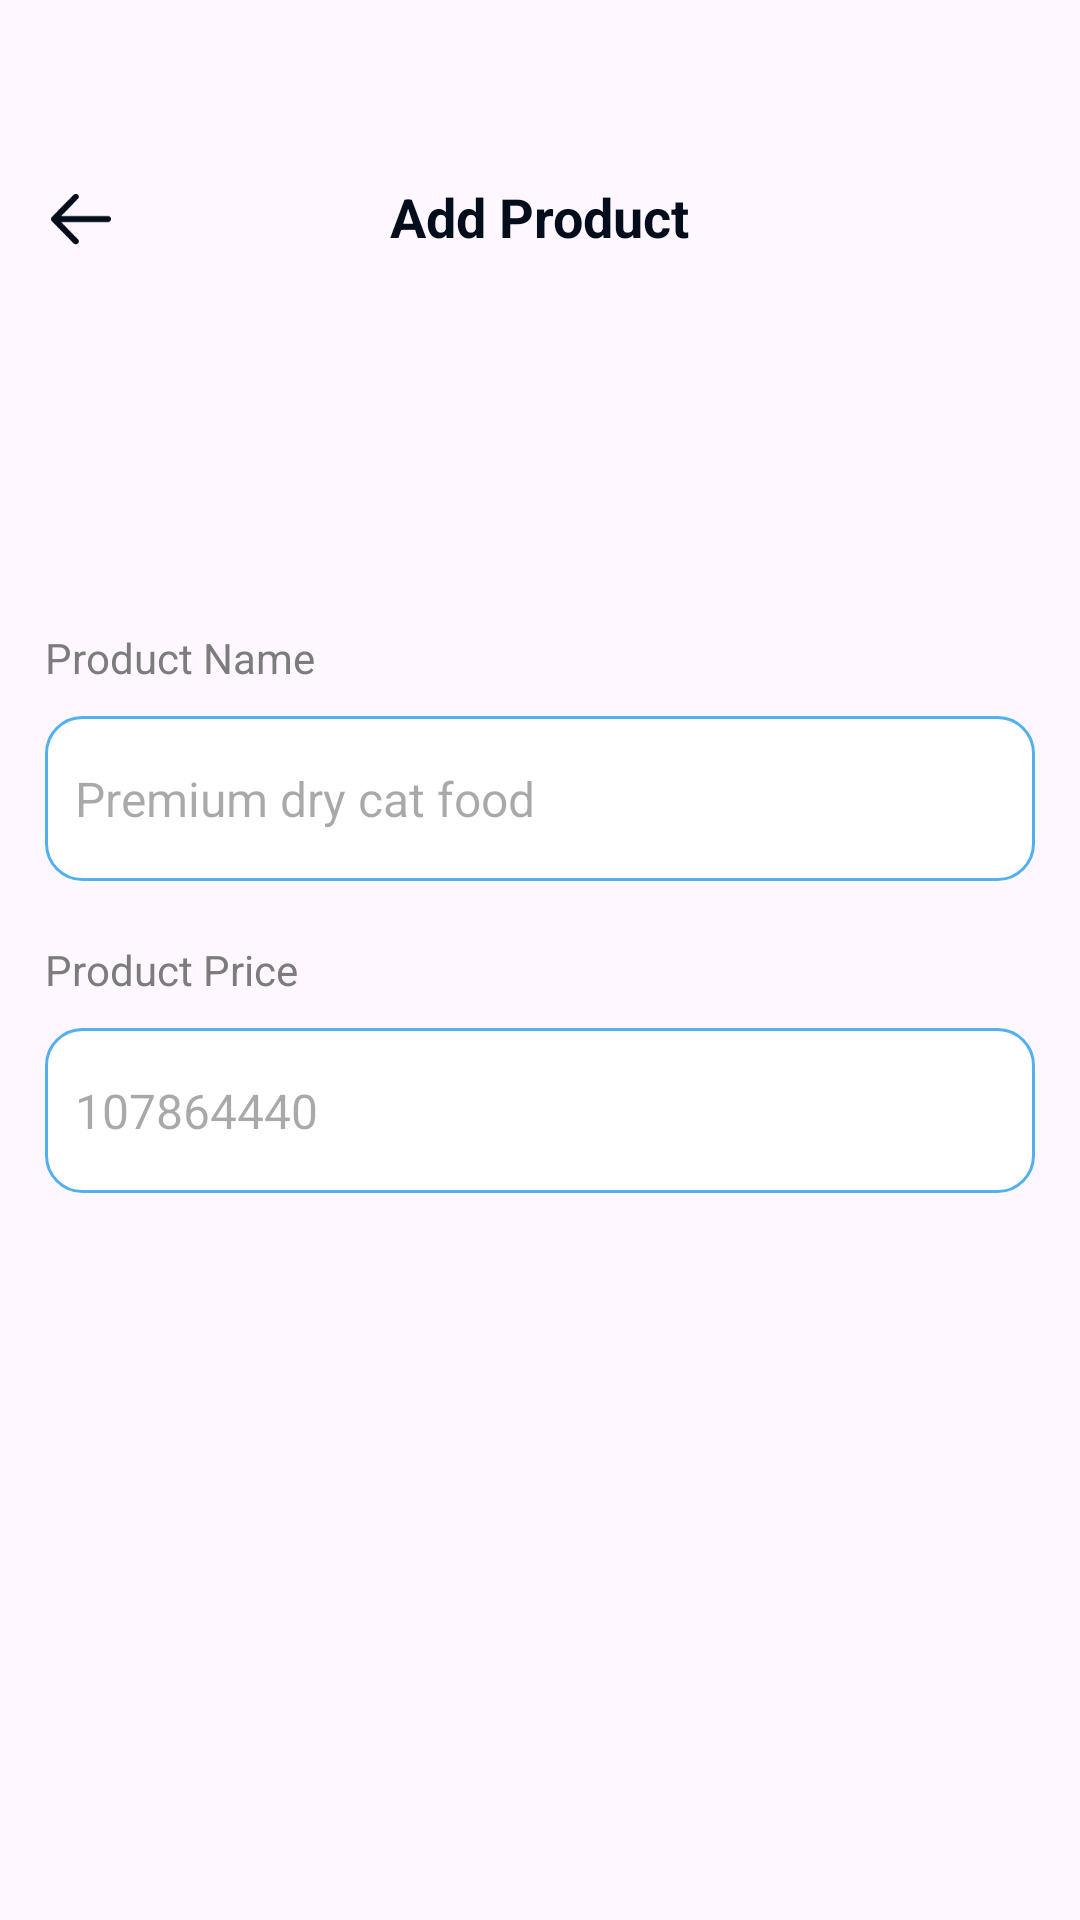

Where icons sit on this 1080*1920 app screen, as (x1, y1, x2, y2):
arrow left: (51, 194, 111, 245)
